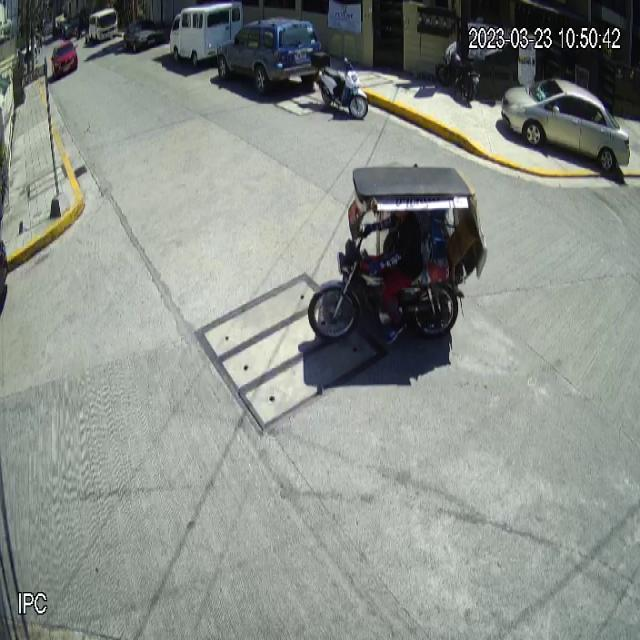Car: (501, 78, 630, 171), (216, 16, 323, 96)
Motorcycle: (309, 49, 369, 120)
Tricycle: (308, 164, 490, 355)
Van: (169, 0, 242, 69)
